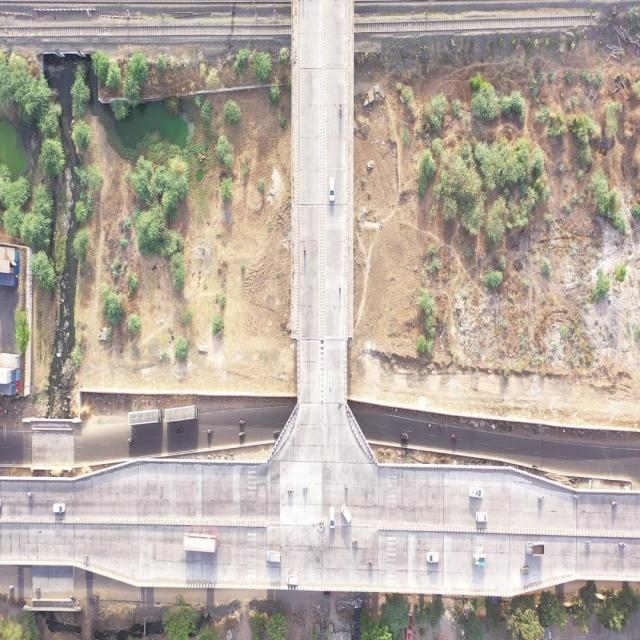3W: (88, 592, 99, 606), (519, 564, 530, 577), (400, 432, 409, 442), (321, 591, 331, 600)
Bus: (182, 530, 218, 554), (127, 407, 163, 427), (164, 404, 199, 424)
Cars: (265, 548, 283, 565), (340, 503, 353, 525), (468, 485, 485, 501), (328, 503, 336, 531), (475, 511, 489, 526), (426, 550, 440, 565), (53, 501, 67, 515), (328, 175, 335, 202), (285, 574, 300, 586)
LCV: (473, 552, 488, 568)
M2W: (285, 487, 295, 496), (350, 536, 360, 545), (365, 559, 374, 569), (618, 540, 628, 549), (610, 499, 619, 508), (584, 539, 593, 547), (537, 492, 545, 501), (450, 432, 459, 440), (206, 428, 214, 436), (27, 490, 35, 498), (303, 245, 307, 259), (238, 431, 246, 438), (82, 553, 90, 560), (425, 422, 433, 429), (126, 437, 135, 443), (338, 282, 342, 295), (344, 479, 348, 492), (176, 426, 183, 433), (302, 484, 309, 491), (238, 419, 246, 425), (531, 463, 539, 469), (339, 102, 342, 117), (273, 430, 280, 436), (35, 585, 41, 592), (437, 423, 444, 429), (70, 595, 77, 600)
Truck: (525, 540, 547, 558)
